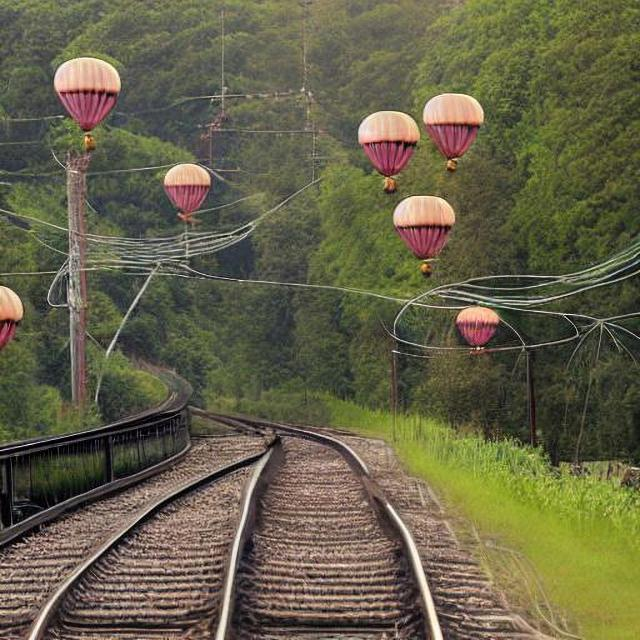balloon: (347, 100, 414, 188), (51, 56, 120, 131), (389, 193, 456, 265), (422, 91, 484, 167), (159, 161, 211, 225), (452, 302, 502, 351)
